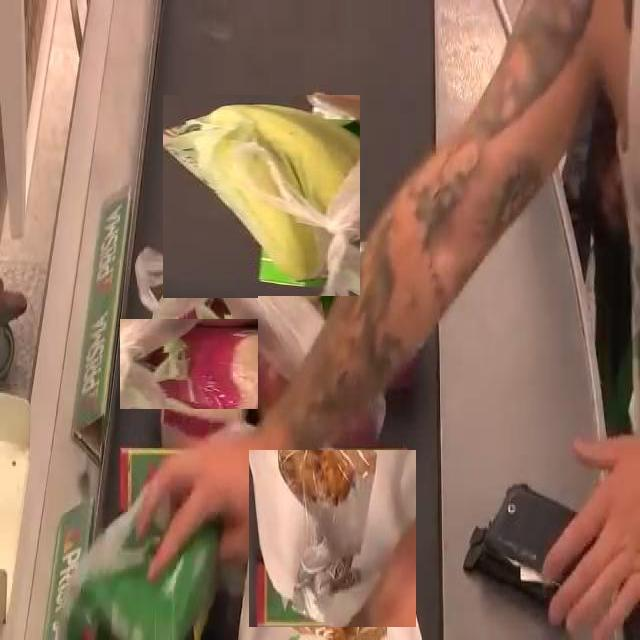food-box: (74, 455, 239, 640), (248, 449, 416, 627), (144, 294, 282, 432)
fruit: (162, 96, 362, 297), (258, 296, 412, 449)
